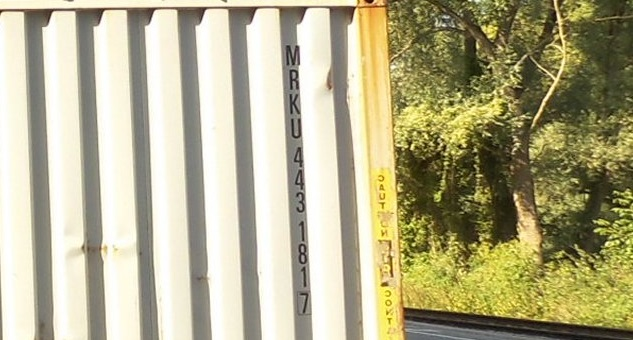container_no_door: (1, 7, 393, 340)
